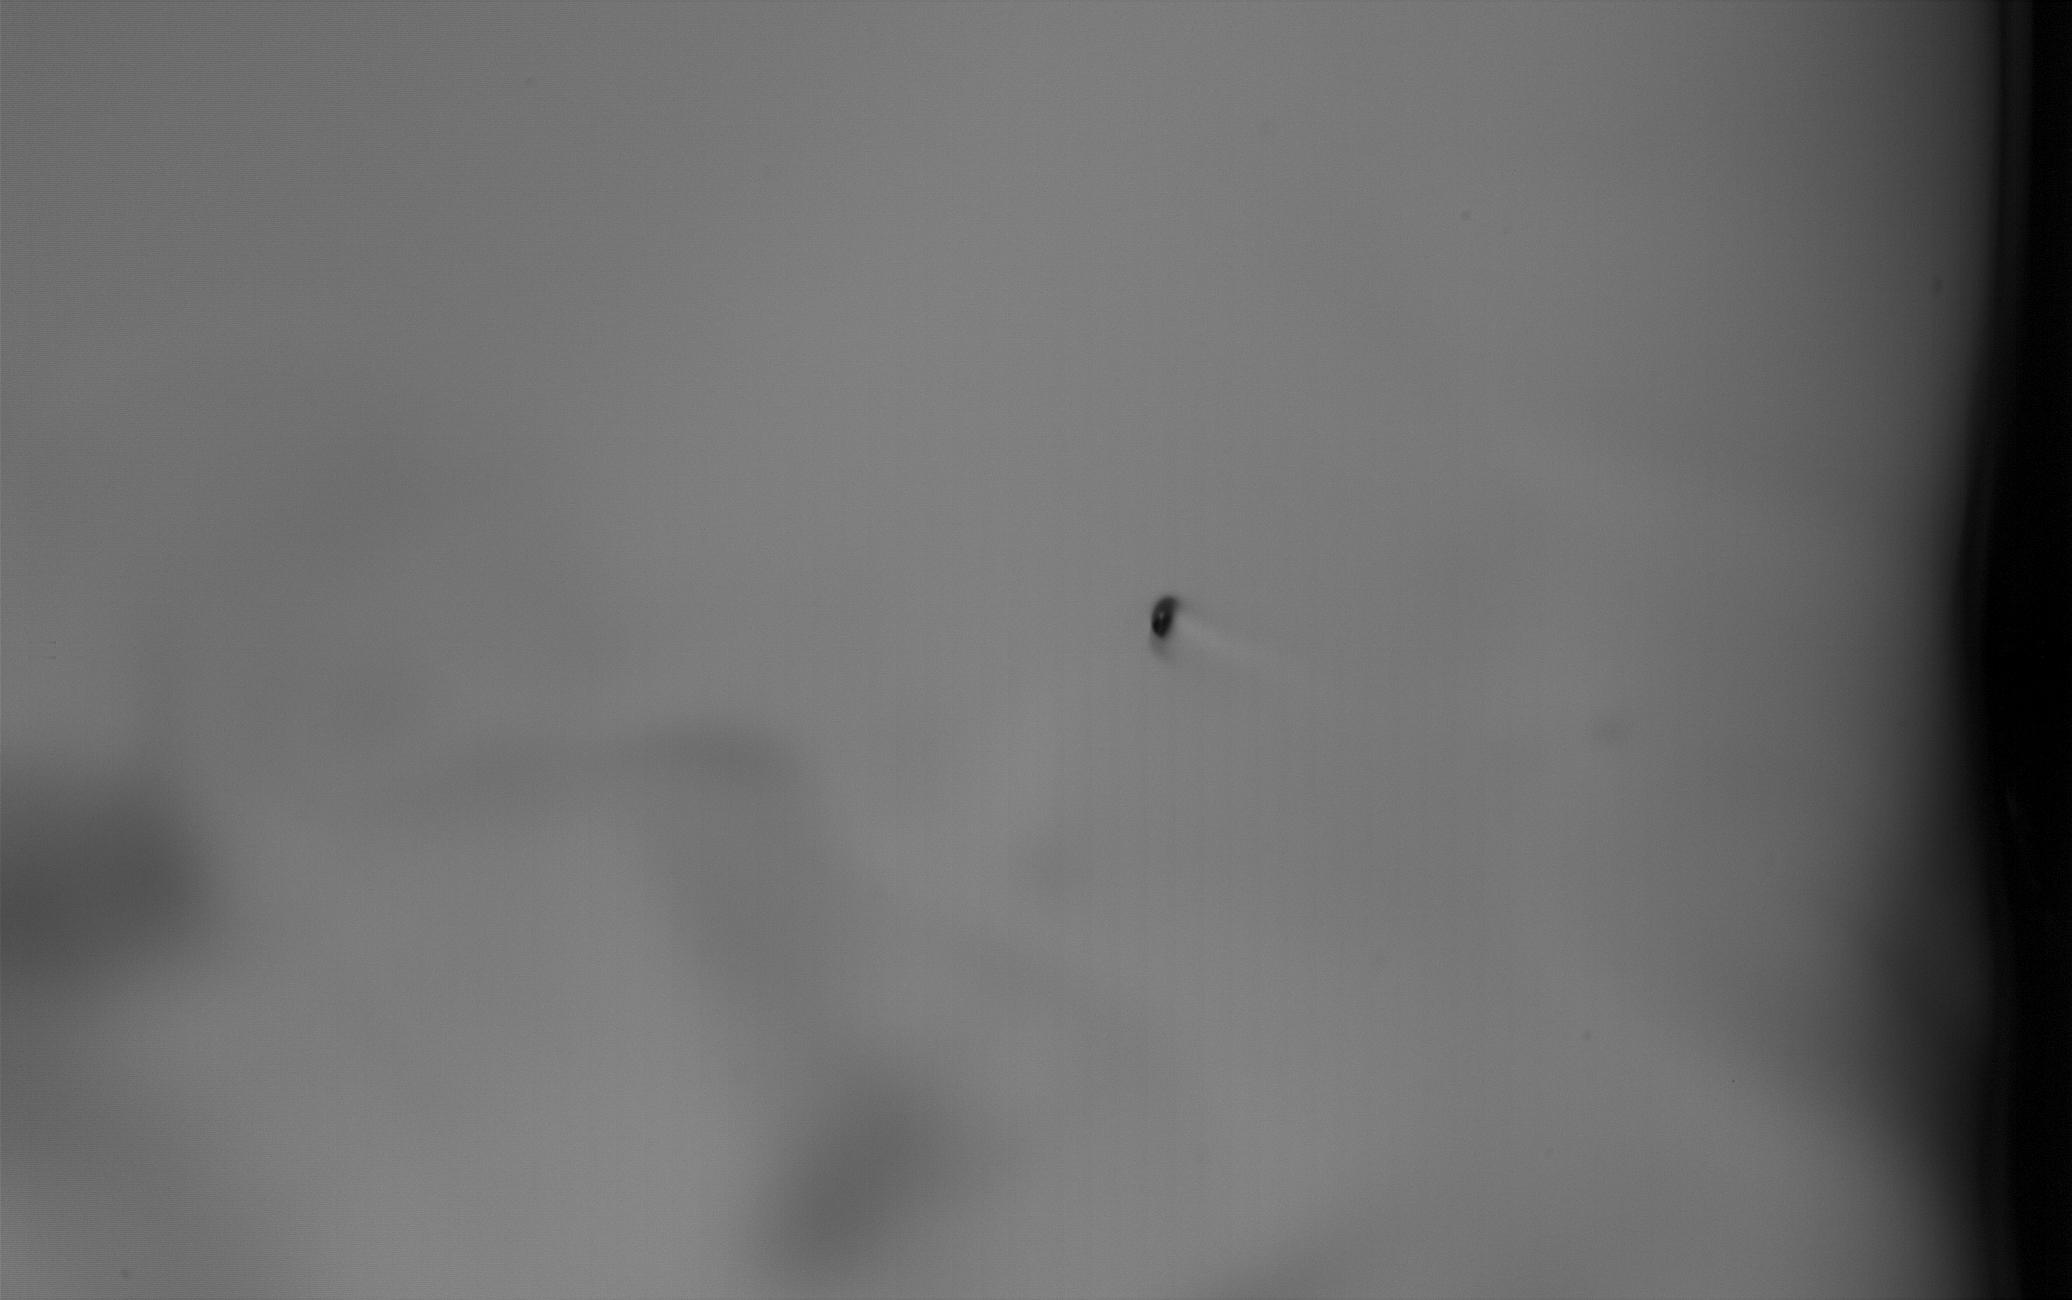TransitionalMixing: (1142, 583, 1186, 663)
